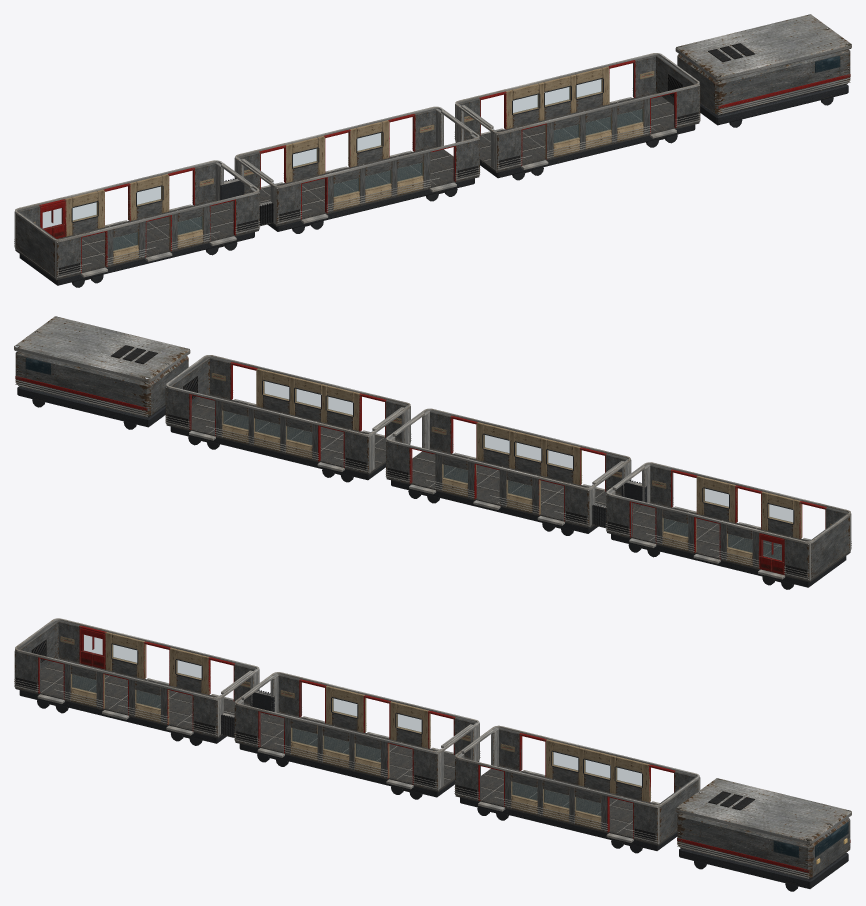
Rendered from SurvivalTrain.fbx.
3 renders of one model, top to bottom at view 1: azimuth 30°, elevation 25°; view 2: azimuth 150°, elevation 25°; view 3: azimuth 330°, elevation 25°, orthographic.
Visible parts, largest first — view 1: Wagon4, Wagon6, Wagon5, Locomotive, Wagon4Glass, Wagon5Glass, Wagon6Glass, Connector, DoorLower; view 2: Wagon4, Wagon5, Wagon6, Locomotive, Wagon4Glass, Wagon5Glass, Wagon6Glass, Connector, DoorLower; view 3: Wagon4, Wagon6, Wagon5, Locomotive, Wagon4Glass, Wagon5Glass, Wagon6Glass, Connector, DoorLower.
Part boxes in pixels (x1,y1,x2,y2): Wagon4: (454, 53, 700, 180); Wagon6: (14, 160, 260, 287); Wagon5: (234, 106, 480, 233); Locomotive: (675, 14, 851, 127); Wagon4Glass: (513, 79, 642, 143); Wagon5Glass: (293, 133, 422, 197); Wagon6Glass: (73, 187, 202, 250); Connector: (220, 178, 273, 226); DoorLower: (40, 202, 65, 238); Wagon4: (165, 355, 411, 482); Wagon5: (385, 408, 631, 535); Wagon6: (605, 462, 851, 589); Locomotive: (14, 316, 190, 429); Wagon4Glass: (223, 381, 352, 445); Wagon5Glass: (443, 435, 572, 499); Wagon6Glass: (663, 489, 792, 552); Connector: (592, 480, 646, 528); DoorLower: (759, 534, 783, 574); Wagon4: (454, 725, 700, 853); Wagon6: (14, 618, 259, 745); Wagon5: (234, 672, 480, 799); Locomotive: (675, 778, 851, 891); Wagon4Glass: (512, 752, 641, 816); Wagon5Glass: (292, 698, 421, 762); Wagon6Glass: (72, 645, 201, 708); Connector: (221, 690, 274, 737); DoorLower: (80, 628, 104, 669).
Size of the model in its own units: 4713 by 331 by 472.
